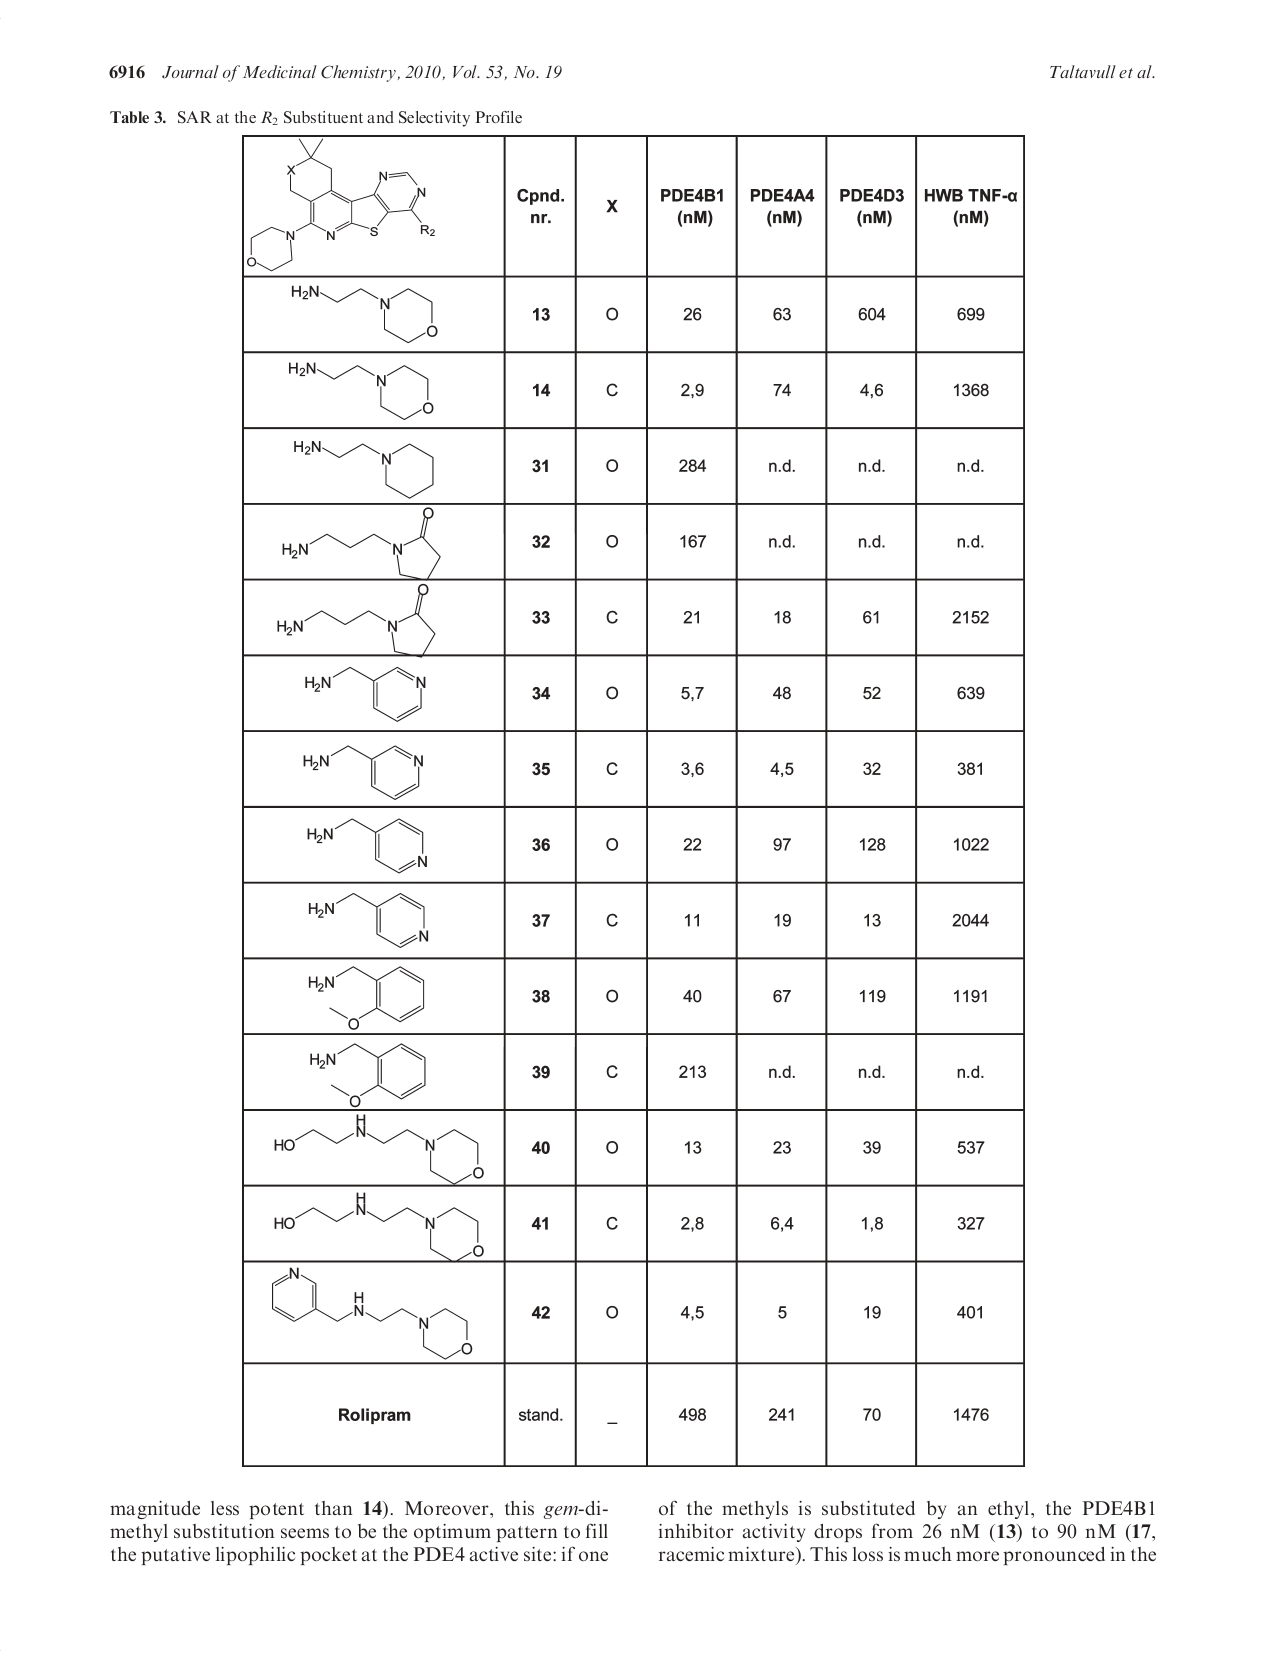exist_molecular: (247, 138, 438, 273), (270, 1266, 473, 1362), (273, 1114, 485, 1186), (273, 1192, 485, 1262), (281, 505, 442, 578), (277, 584, 438, 654), (285, 358, 434, 422), (287, 283, 439, 344), (289, 438, 435, 500), (307, 965, 427, 1031), (309, 1043, 427, 1108), (303, 664, 427, 723), (307, 892, 431, 951), (303, 743, 426, 802), (306, 818, 430, 875)
